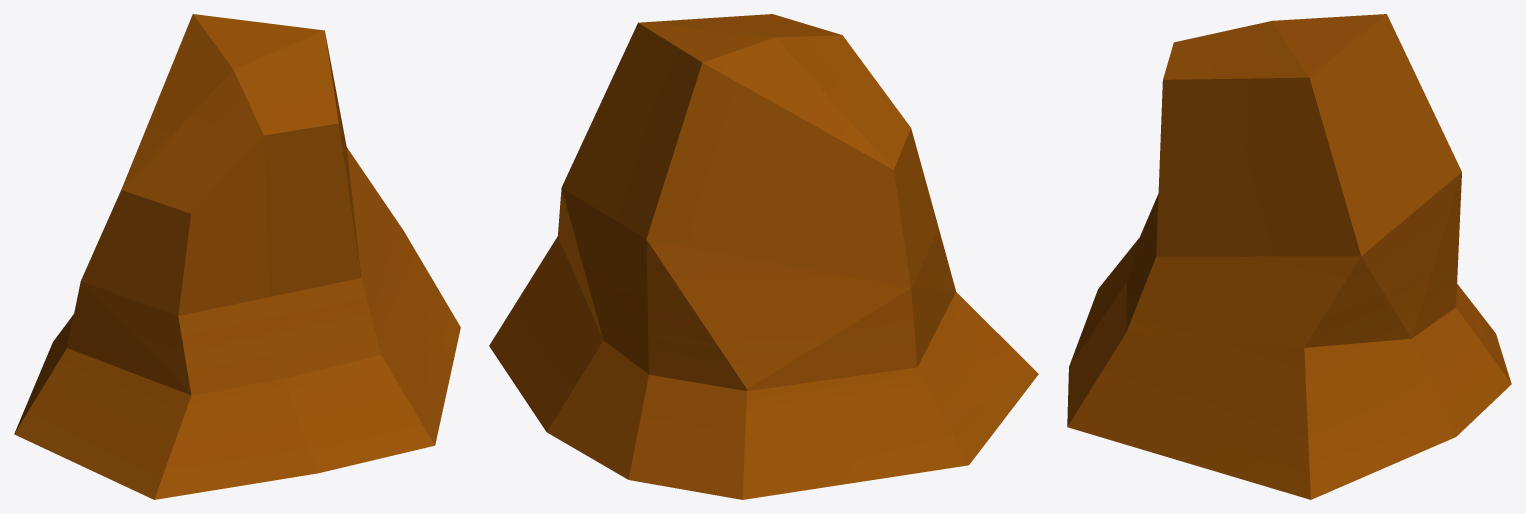
Rendered from Landscape_rock_002.obj.
3 renders of one model, left to right at view 1: azimuth 30°, elevation 25°; view 2: azimuth 150°, elevation 25°; view 3: azimuth 270°, elevation 25°, orthographic. The views are drawn at different scales.
Visible parts, largest first — view 1: Landscape_rock.002; view 2: Landscape_rock.002; view 3: Landscape_rock.002.
Part boxes in pixels (x1,y1,x2,y2): Landscape_rock.002: [14, 14, 460, 499]; Landscape_rock.002: [489, 14, 1038, 499]; Landscape_rock.002: [1067, 14, 1511, 499].
Size of the model in its own units: 15.84 by 11.71 by 12.91.
